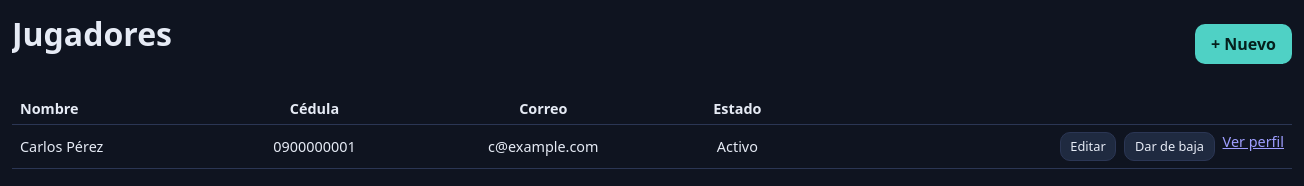
PerfilJugadorAdminPage › el link 'Ver perfil' desde Jugadores navega a la ruta correcta
Expected: the text "Carlos Pérez" is shown, [12,125,214,169]
Click the link "Ver perfil" at (1253,146), box [1223,132,1284,161]
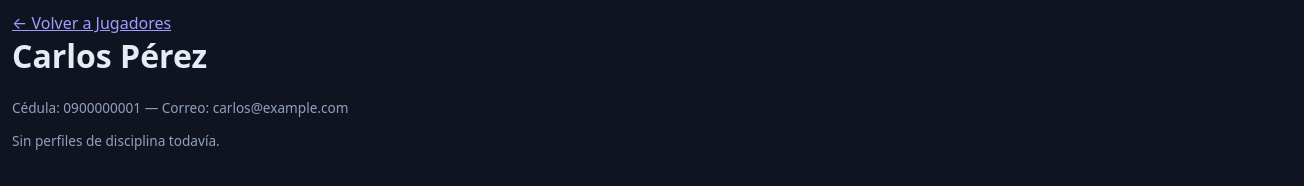
Result: the heading "Carlos Pérez" is shown at [12,34,207,77]
Result: the text "Sin perfiles de disciplina todavía." is shown at [12,131,220,150]
